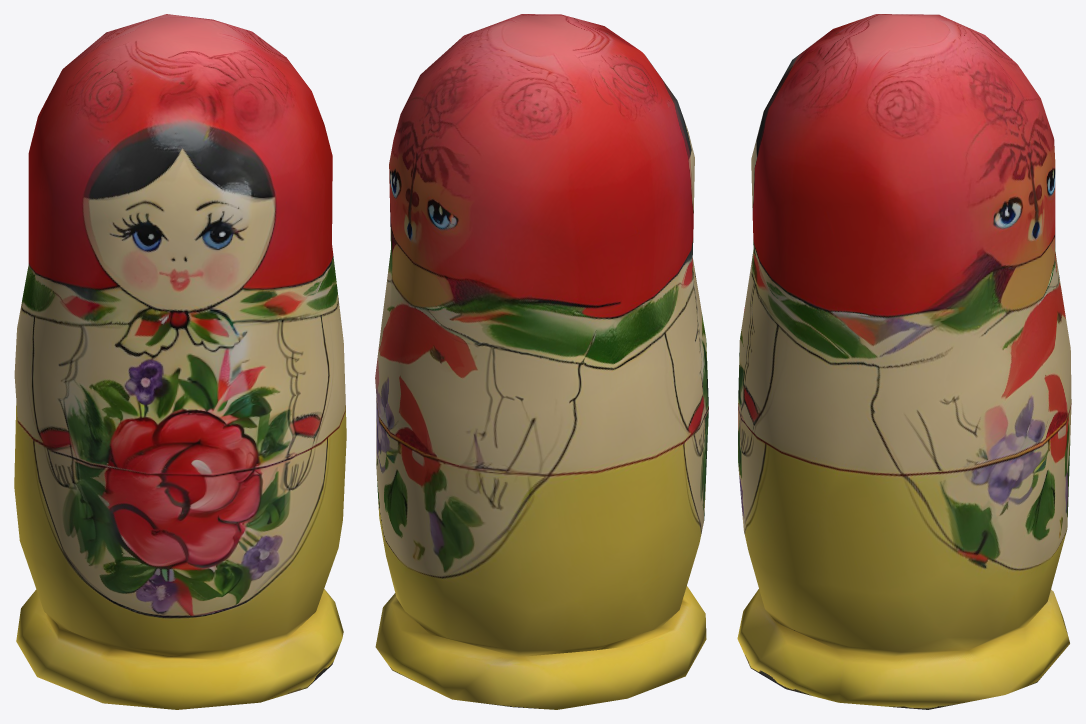
Rendered from babushka.glb.
3 renders of one model, left to right at view 1: azimuth 30°, elevation 25°; view 2: azimuth 150°, elevation 25°; view 3: azimuth 270°, elevation 25°, orthographic.
Visible parts, largest first — view 1: tripo_node_06b59123-362b-4209-91de-c5262605770c.001; view 2: tripo_node_06b59123-362b-4209-91de-c5262605770c.001; view 3: tripo_node_06b59123-362b-4209-91de-c5262605770c.001.
Boxes of the visible parts, left/top/right/bottom form: tripo_node_06b59123-362b-4209-91de-c5262605770c.001: left=14, top=14, right=346, bottom=709; tripo_node_06b59123-362b-4209-91de-c5262605770c.001: left=375, top=14, right=708, bottom=709; tripo_node_06b59123-362b-4209-91de-c5262605770c.001: left=737, top=14, right=1071, bottom=709.
Bounding box in the file's own units: 0.4884 × 1 × 0.4872.
Materials: 1 (1 with a texture image).
